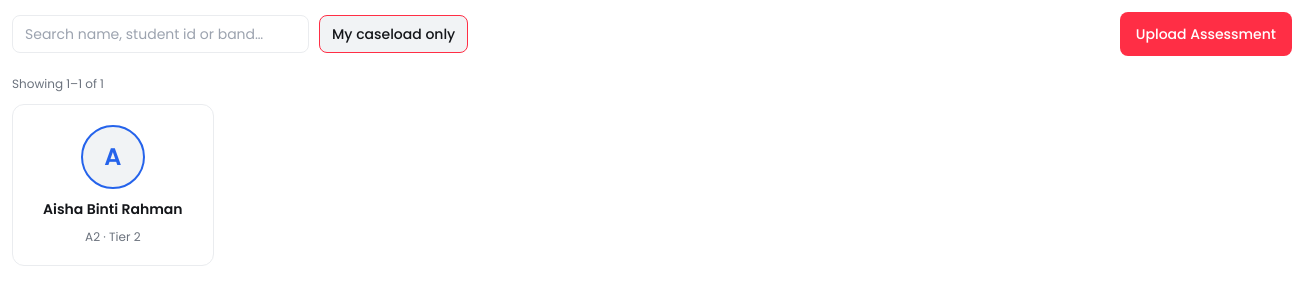
Test case: UT-9.11a: toggling off surfaces the whole cohort alongside the caseload
The width and height of the screenshot is (1304, 283).
Expected: the text "Aisha Binti Rahman" is shown, [43,199,183,219]
What coordinates should you click on to do the following:
click the button "My caseload only"
I would click on:
 (394, 34)
Its box is [319,15,468,53].
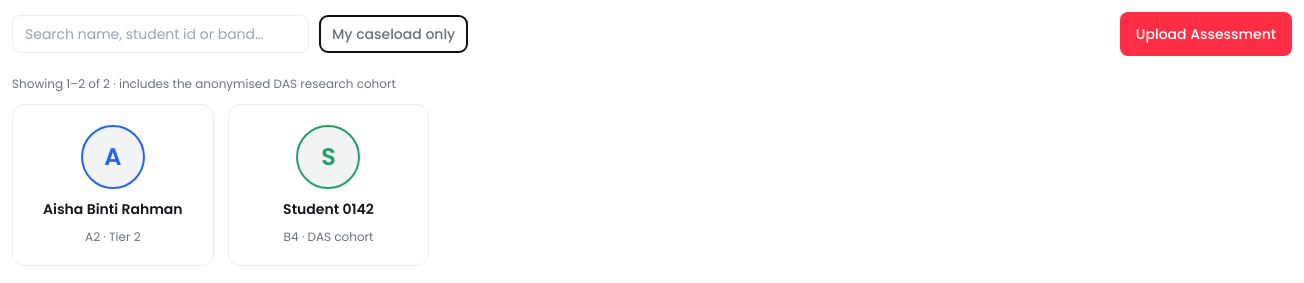
Now the text "Student 0142" is shown, box [283,199,374,219]
Now the text "includes the anonymised DAS research cohort" is shown, box [110,75,396,92]
